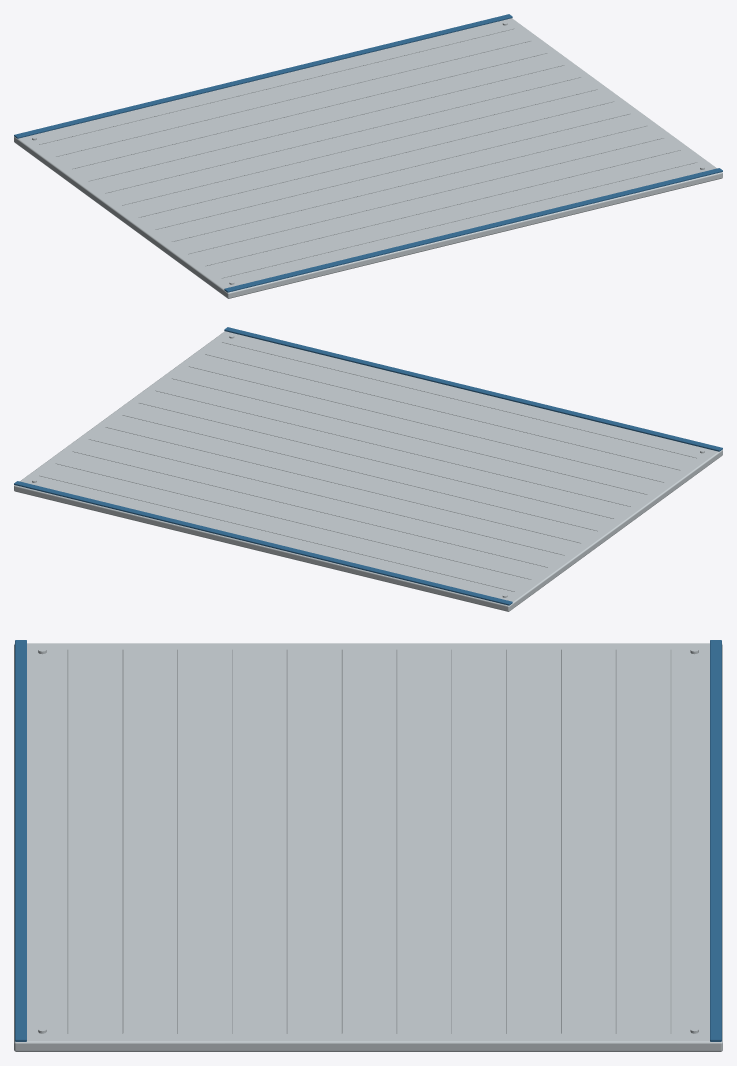
The model's file is fencing-club-and-tournament-piste-conductive-piste-sec-1f7fe590__31208.glb.
3 renders of one model, top to bottom at view 1: azimuth 30°, elevation 25°; view 2: azimuth 150°, elevation 25°; view 3: azimuth 270°, elevation 25°, orthographic. The views are drawn at different scales.
Visible parts, largest first — view 1: conductive-piste-section; view 2: conductive-piste-section; view 3: conductive-piste-section.
Part boxes in pixels (<box>): conductive-piste-section: <box>14,14,722,298</box>; conductive-piste-section: <box>14,327,722,611</box>; conductive-piste-section: <box>14,640,722,1051</box>.
Bounding box in the file's own units: 2 × 0.0311 × 1.5.
